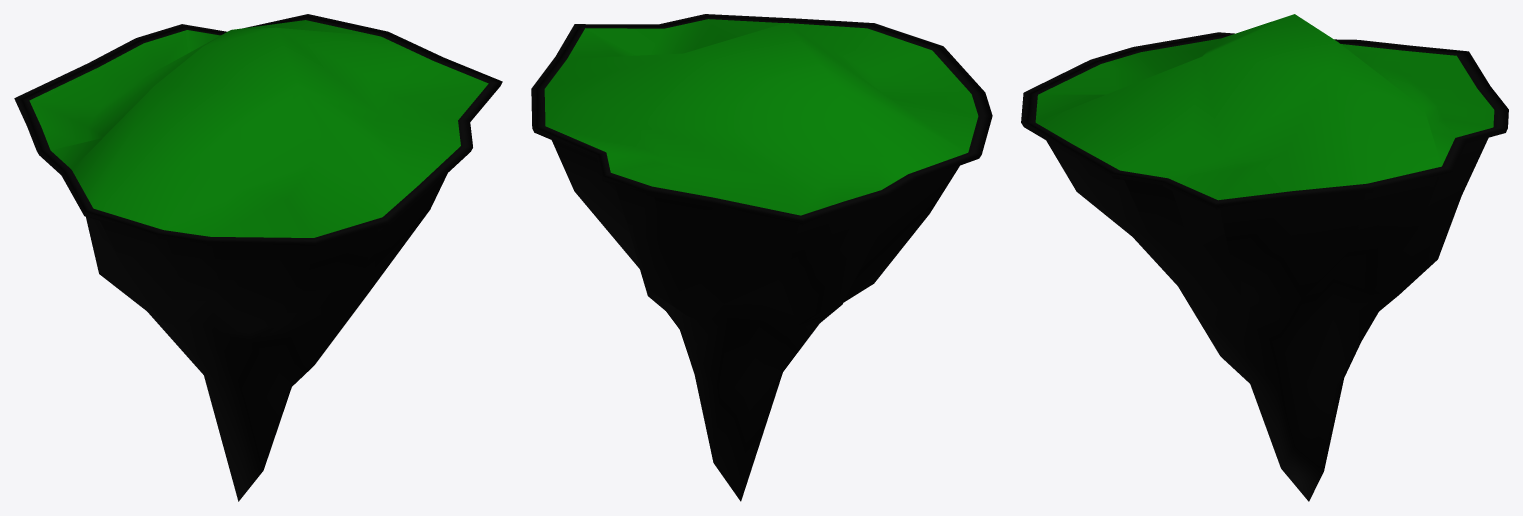
Rendered from SM_Island_Small.fbx.
3 views of the same model, side by side, from view 1: azimuth 30°, elevation 25°; view 2: azimuth 150°, elevation 25°; view 3: azimuth 270°, elevation 25° (orthographic). The views are drawn at different scales.
Parts seen in each view (by area): view 1: Island_Small; view 2: Island_Small; view 3: Island_Small.
Boxes of the visible parts, x1=… form: Island_Small: x1=14, y1=14, x2=502, y2=501; Island_Small: x1=531, y1=14, x2=992, y2=501; Island_Small: x1=1021, y1=14, x2=1508, y2=501.
Bounding box in the file's own units: 464 × 482 × 469.
